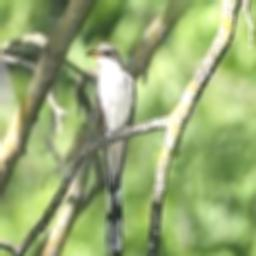Cuckoo: (85, 43, 135, 256)
